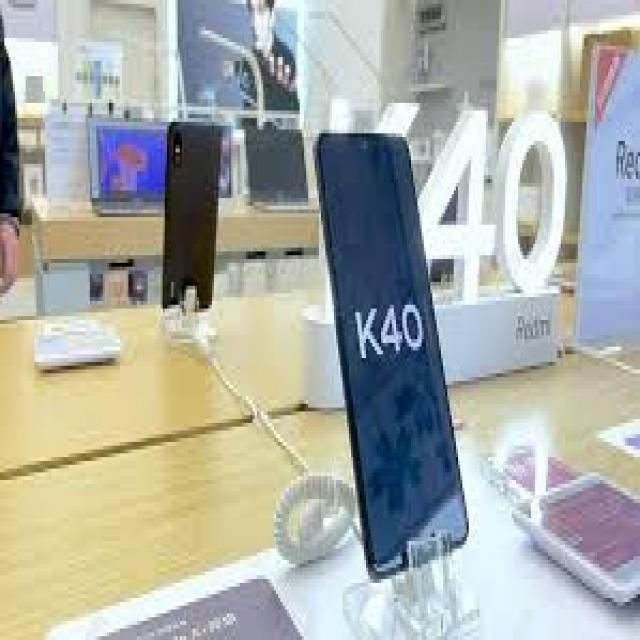Phone: (311, 124, 468, 577), (159, 120, 225, 316)
